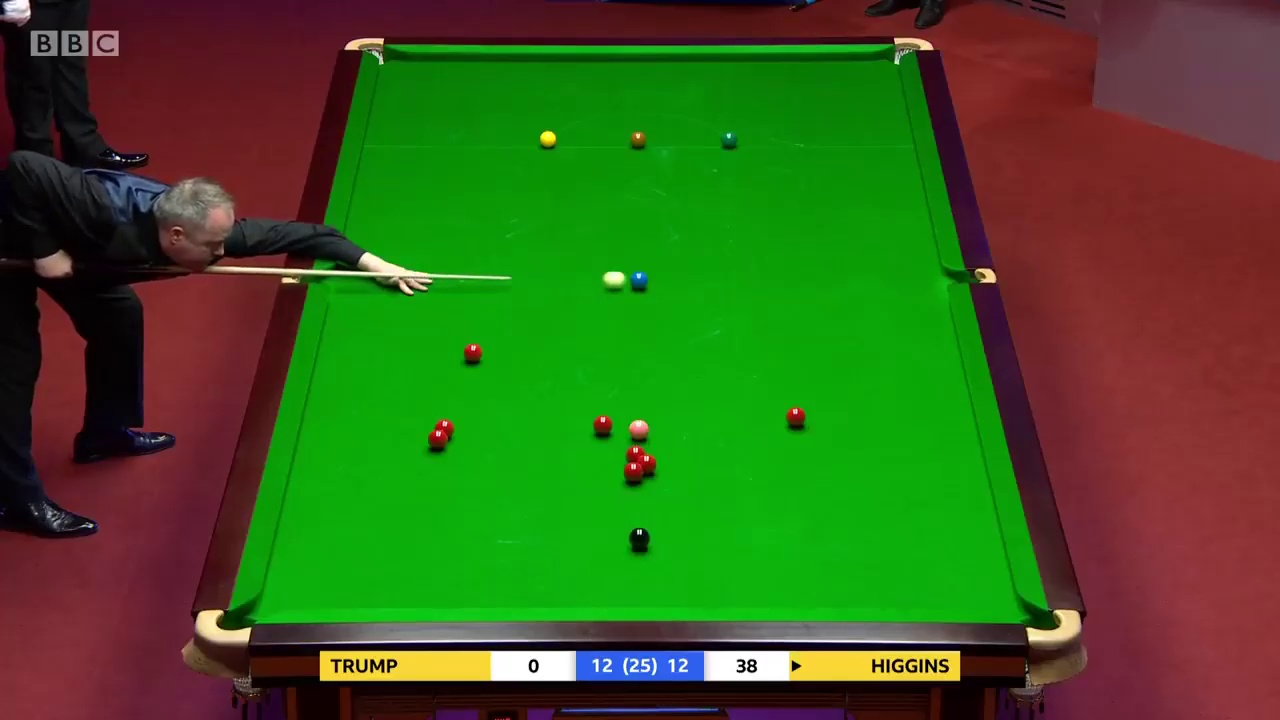ball: (620, 460, 645, 483), (783, 405, 805, 429), (627, 526, 652, 546), (590, 415, 613, 436), (426, 428, 448, 448), (463, 343, 481, 364), (626, 130, 646, 148), (719, 129, 738, 147), (538, 130, 555, 148)
